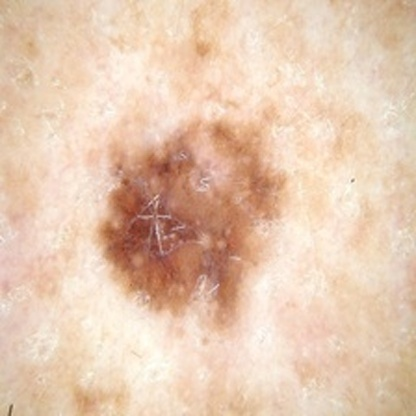malignant: (114, 131, 257, 298)
